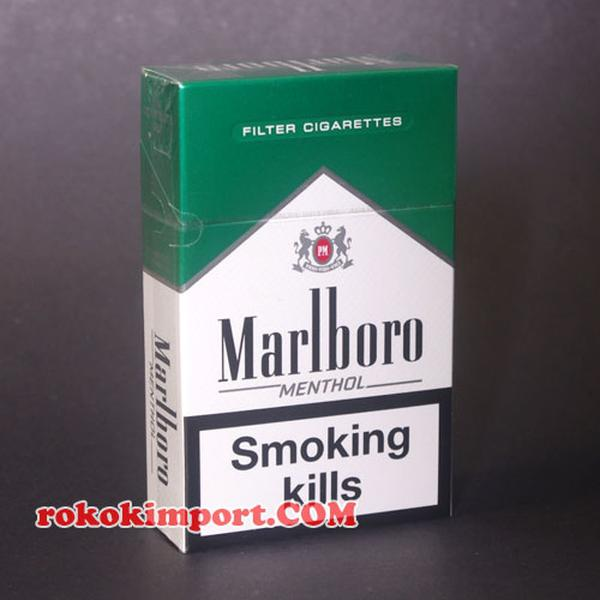marlboro_mentol: (182, 77, 448, 522)
